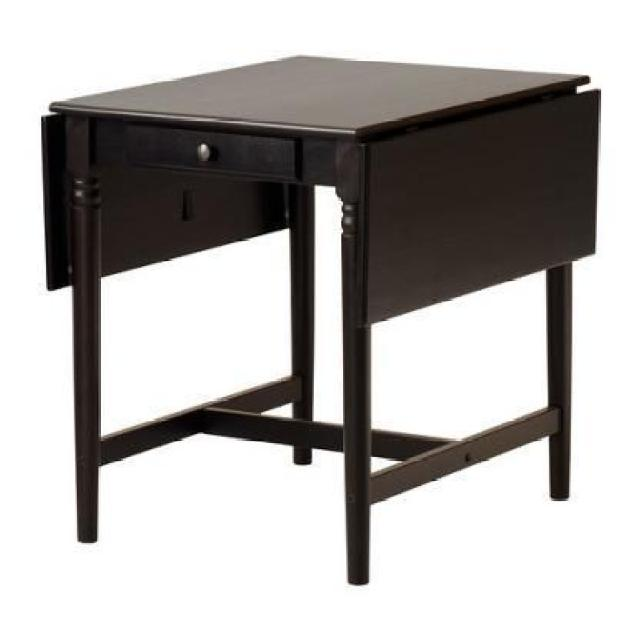tables: (40, 52, 600, 585)
